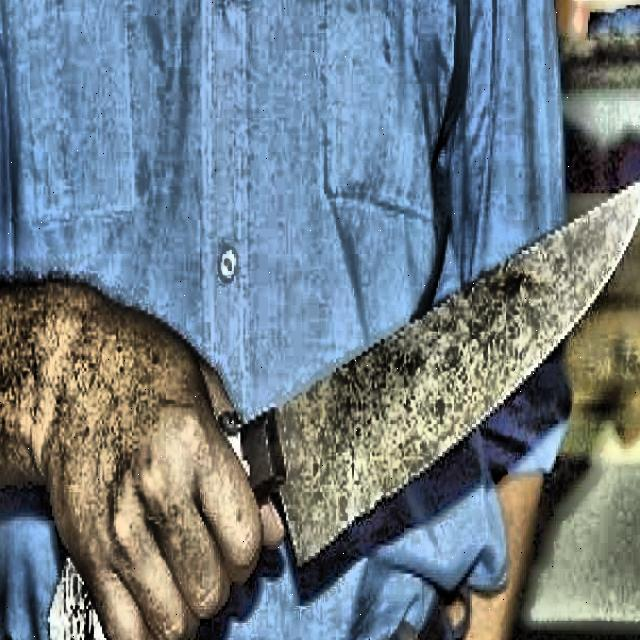knife: (44, 176, 640, 639)
